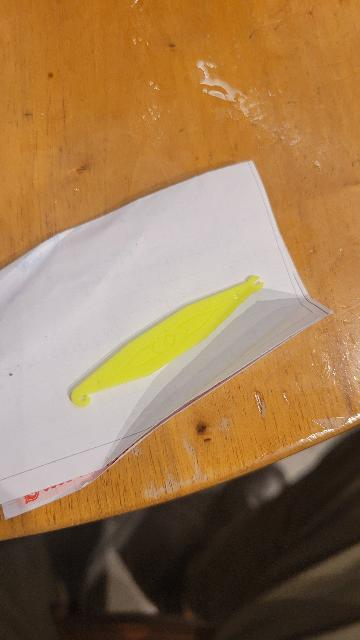Kagit: (0, 156, 316, 518)
Plastik: (69, 272, 270, 407)
